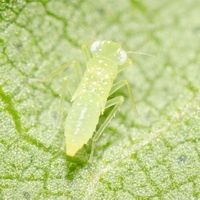insect: (64, 40, 130, 155)
